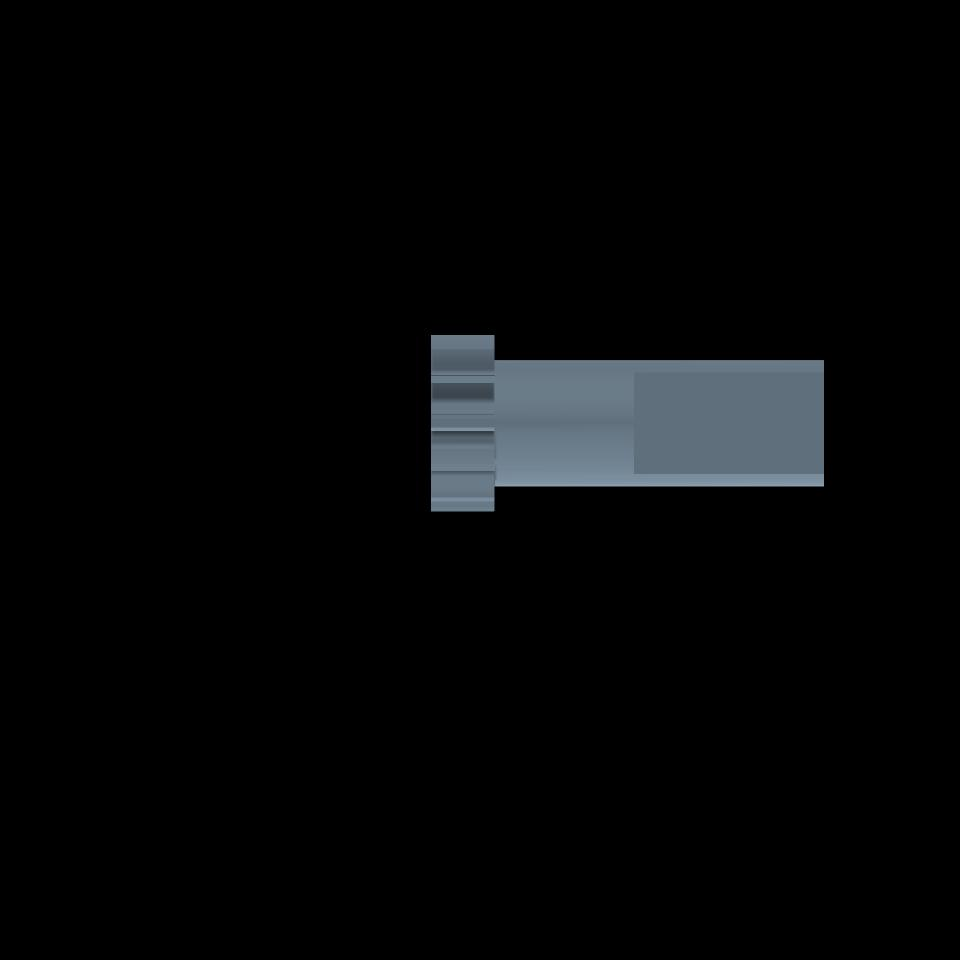Straight: (430, 334, 496, 512)
